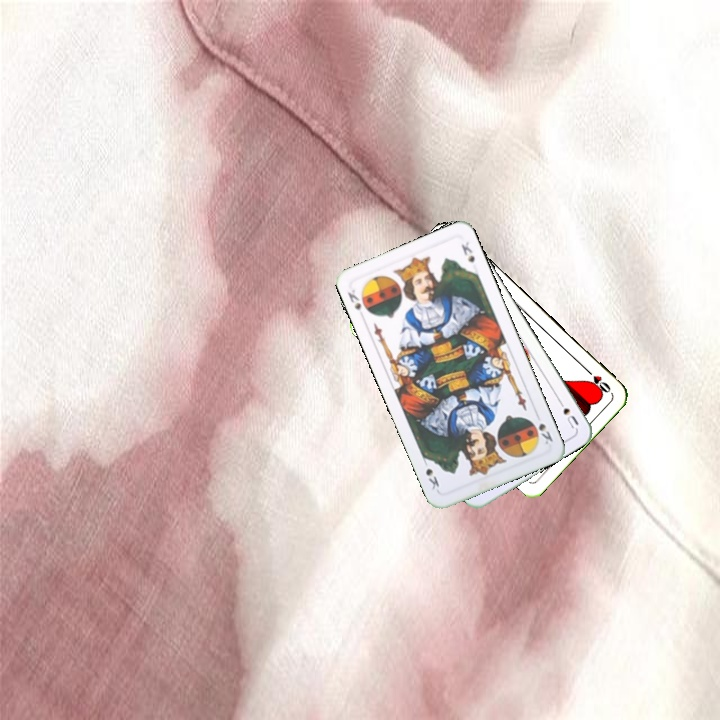HO: (581, 364, 613, 395)
SK: (528, 409, 555, 447), (343, 285, 364, 313)
SU: (553, 394, 581, 431)
